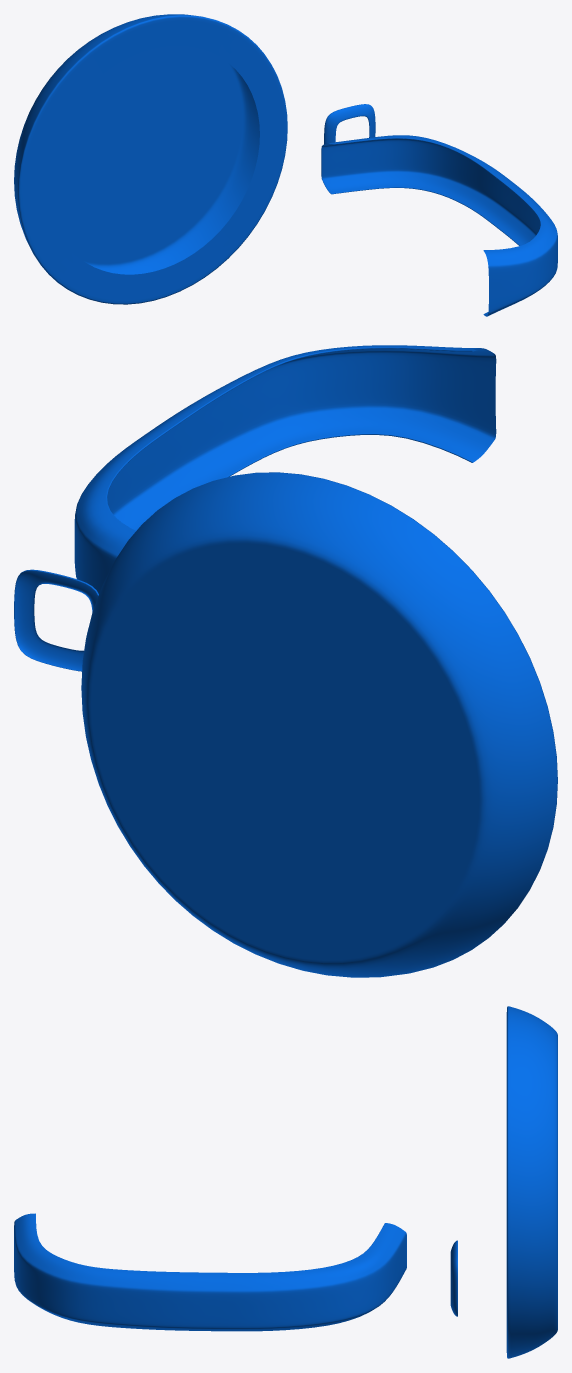
3 views of the same model, one above another, from view 1: azimuth 30°, elevation 25°; view 2: azimuth 150°, elevation 25°; view 3: azimuth 270°, elevation 25° (orthographic). The views are drawn at different scales.
Size of the model in its own units: 0.8625 by 0.6351 by 0.9793.
